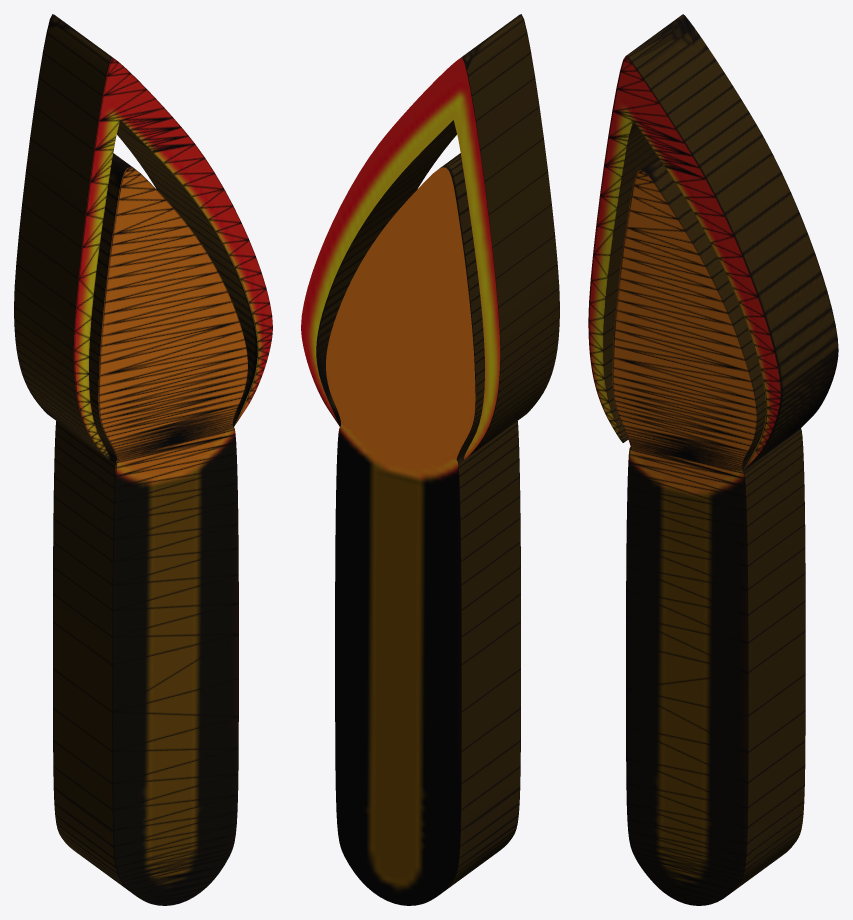
File: Torch.obj
3 views of the same model, side by side, from view 1: azimuth 30°, elevation 25°; view 2: azimuth 150°, elevation 25°; view 3: azimuth 330°, elevation 25° (orthographic). The views are drawn at different scales.
Visible parts, largest first — view 1: Curve_CUpath20; view 2: Curve_CUpath20; view 3: Curve_CUpath20.
Part boxes in pixels (x1,y1,x2,y2): Curve_CUpath20: [14, 14, 272, 905]; Curve_CUpath20: [301, 14, 559, 905]; Curve_CUpath20: [588, 14, 838, 905].
Size of the model in its own units: 0.1543 by 0.6379 by 0.08.
Materials: 1 (1 with a texture image).
